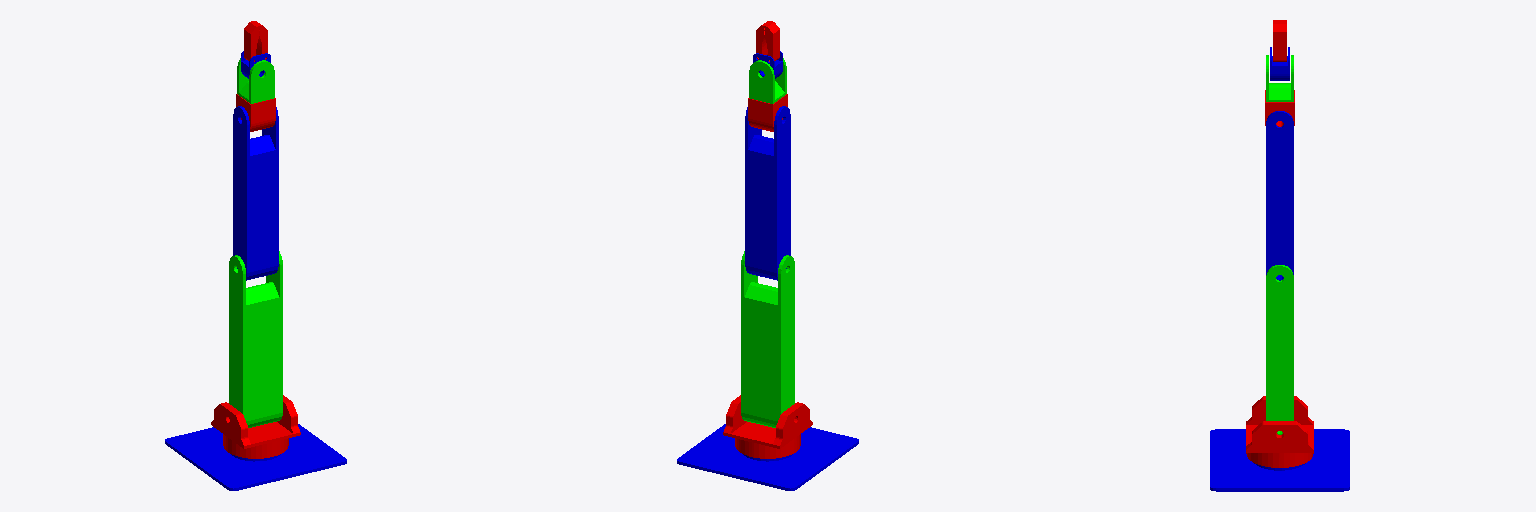
URDF robot description (arm_config_547):
<?xml version="1.0" encoding="utf-8"?>
<!-- This URDF was automatically created by SolidWorks to URDF Exporter! Originally created by [author] ([email redacted])
     Commit Version: 1.6.0-1-g15f4949  Build Version: 1.6.7594.29634
     For more information, please see http://wiki.ros.org/sw_urdf_exporter -->
<robot
  name="arm_config_547">
  <link
    name="link0">
    <inertial>
      <origin
        xyz="-8.53681301195987E-18 8.70768959319371E-18 0.0134925923770574"
        rpy="0 0 0" />
      <mass
        value="0.688644220951133" />
      <inertia
        ixx="0.00227509587313853"
        ixy="-1.85288457211878E-19"
        ixz="-3.56668054131112E-20"
        iyy="0.00227509587313853"
        iyz="2.02831096693689E-19"
        izz="0.0042834204048908" />
    </inertial>
    <visual>
      <origin
        xyz="0 0 0"
        rpy="0 0 0" />
      <geometry>
        <mesh
          filename="package://arm_config_547/meshes/link0.STL" />
      </geometry>
      <material
        name="">
        <color
          rgba="0 0 1 1" />
      </material>
    </visual>
    <collision>
      <origin
        xyz="0 0 0"
        rpy="0 0 0" />
      <geometry>
        <mesh
          filename="package://arm_config_547/meshes/link0.STL" />
      </geometry>
    </collision>
  </link>
  <link
    name="link1">
    <inertial>
      <origin
        xyz="-2.08801438517834E-18 0.0379721070933267 -1.10825098188093E-17"
        rpy="0 0 0" />
      <mass
        value="0.325738848244519" />
      <inertia
        ixx="0.000522993145721435"
        ixy="3.75752739289361E-20"
        ixz="-2.99852972050473E-20"
        iyy="0.00101068383316777"
        iyz="-3.68182345853235E-20"
        izz="0.000788818526389585" />
    </inertial>
    <visual>
      <origin
        xyz="0 0 0"
        rpy="0 0 0" />
      <geometry>
        <mesh
          filename="package://arm_config_547/meshes/link1.STL" />
      </geometry>
      <material
        name="">
        <color
          rgba="1 0 0 1" />
      </material>
    </visual>
    <collision>
      <origin
        xyz="0 0 0"
        rpy="0 0 0" />
      <geometry>
        <mesh
          filename="package://arm_config_547/meshes/link1.STL" />
      </geometry>
    </collision>
  </link>
  <joint
    name="Joint1"
    type="continuous">
    <origin
      xyz="0 0 0.016"
      rpy="1.5707963267949 0 0" />
    <parent
      link="link0" />
    <child
      link="link1" />
    <axis
      xyz="0 1 0" />
  </joint>
  <link
    name="link2">
    <inertial>
      <origin
        xyz="0.122191081384947 -3.19989222571702E-16 4.39316896996659E-16"
        rpy="0 0 0" />
      <mass
        value="1.16679960559088" />
      <inertia
        ixx="0.000984217152938848"
        ixy="1.42966455382666E-18"
        ixz="2.62609878143289E-18"
        iyy="0.00811847090565724"
        iyz="1.02144421342842E-19"
        izz="0.00862847533732547" />
    </inertial>
    <visual>
      <origin
        xyz="0 0 0"
        rpy="0 0 0" />
      <geometry>
        <mesh
          filename="package://arm_config_547/meshes/link2.STL" />
      </geometry>
      <material
        name="">
        <color
          rgba="0 1 0 1" />
      </material>
    </visual>
    <collision>
      <origin
        xyz="0 0 0"
        rpy="0 0 0" />
      <geometry>
        <mesh
          filename="package://arm_config_547/meshes/link2.STL" />
      </geometry>
    </collision>
  </link>
  <joint
    name="Joint2"
    type="revolute">
    <origin
      xyz="0 0.0660000000000002 0"
      rpy="0 0 1.5707963267949" />
    <parent
      link="link1" />
    <child
      link="link2" />
    <axis
      xyz="0 1 0" />
    <limit
      lower="-1.5708"
      upper="1.5708"
      effort="10"
      velocity="10" />
  </joint>
  <link
    name="link3">
    <inertial>
      <origin
        xyz="0.122769030179639 -8.73635937041109E-16 3.93075423358247E-17"
        rpy="0 0 0" />
      <mass
        value="0.923042306179794" />
      <inertia
        ixx="0.000556085946864622"
        ixy="6.94910439843216E-19"
        ixz="-4.63083400637701E-18"
        iyy="0.00648677653625795"
        iyz="-7.346646890062E-20"
        izz="0.00666759911490151" />
    </inertial>
    <visual>
      <origin
        xyz="0 0 0"
        rpy="0 0 0" />
      <geometry>
        <mesh
          filename="package://arm_config_547/meshes/link3.STL" />
      </geometry>
      <material
        name="">
        <color
          rgba="0 0 1 1" />
      </material>
    </visual>
    <collision>
      <origin
        xyz="0 0 0"
        rpy="0 0 0" />
      <geometry>
        <mesh
          filename="package://arm_config_547/meshes/link3.STL" />
      </geometry>
    </collision>
  </link>
  <joint
    name="Joint3"
    type="revolute">
    <origin
      xyz="0.3 0 0"
      rpy="3.14159265358979 0 0" />
    <parent
      link="link2" />
    <child
      link="link3" />
    <axis
      xyz="0 1 0" />
    <limit
      lower="-2.3562"
      upper="2.3562"
      effort="10"
      velocity="10" />
  </joint>
  <link
    name="link4">
    <inertial>
      <origin
        xyz="0.00972269745378007 1.16326789090019E-16 -1.15321076998277E-16"
        rpy="0 0 0" />
      <mass
        value="0.160672589924149" />
      <inertia
        ixx="7.42187639401473E-05"
        ixy="-1.64742695562951E-20"
        ixz="9.53193092185211E-21"
        iyy="9.03295624525189E-05"
        iyz="4.9230263034182E-21"
        izz="9.16902291249821E-05" />
    </inertial>
    <visual>
      <origin
        xyz="0 0 0"
        rpy="0 0 0" />
      <geometry>
        <mesh
          filename="package://arm_config_547/meshes/link4.STL" />
      </geometry>
      <material
        name="">
        <color
          rgba="1 0 0 1" />
      </material>
    </visual>
    <collision>
      <origin
        xyz="0 0 0"
        rpy="0 0 0" />
      <geometry>
        <mesh
          filename="package://arm_config_547/meshes/link4.STL" />
      </geometry>
    </collision>
  </link>
  <joint
    name="Joint4"
    type="revolute">
    <origin
      xyz="0.3 0 0"
      rpy="-3.14159265358979 0 0" />
    <parent
      link="link3" />
    <child
      link="link4" />
    <axis
      xyz="0 1 0" />
    <limit
      lower="-2.3562"
      upper="2.3562"
      effort="10"
      velocity="10" />
  </joint>
  <link
    name="link5">
    <inertial>
      <origin
        xyz="-0.0252810003387344 -1.45254067958585E-17 -1.1046793514653E-16"
        rpy="0 0 0" />
      <mass
        value="0.0739367476391903" />
      <inertia
        ixx="3.77533059429257E-05"
        ixy="9.55694218674838E-21"
        ixz="6.9503752476749E-21"
        iyy="4.82105539410537E-05"
        iyz="-2.51355434566296E-21"
        izz="5.971485171142E-05" />
    </inertial>
    <visual>
      <origin
        xyz="0 0 0"
        rpy="0 0 0" />
      <geometry>
        <mesh
          filename="package://arm_config_547/meshes/link5.STL" />
      </geometry>
      <material
        name="">
        <color
          rgba="0 1 0 1" />
      </material>
    </visual>
    <collision>
      <origin
        xyz="0 0 0"
        rpy="0 0 0" />
      <geometry>
        <mesh
          filename="package://arm_config_547/meshes/link5.STL" />
      </geometry>
    </collision>
  </link>
  <joint
    name="Joint5"
    type="continuous">
    <origin
      xyz="0.04 0 0"
      rpy="-1.5707963267949 0 -3.14159265358979" />
    <parent
      link="link4" />
    <child
      link="link5" />
    <axis
      xyz="1 0 0" />
  </joint>
  <link
    name="link6">
    <inertial>
      <origin
        xyz="0.00558882614500944 -1.33723273427566E-16 1.66757272521741E-16"
        rpy="0 0 0" />
      <mass
        value="0.0500757226681314" />
      <inertia
        ixx="1.40278845635623E-05"
        ixy="-3.02675419086259E-21"
        ixz="-4.89086528009018E-22"
        iyy="1.64279778012586E-05"
        iyz="6.31791756919325E-22"
        izz="1.41096720866551E-05" />
    </inertial>
    <visual>
      <origin
        xyz="0 0 0"
        rpy="0 0 0" />
      <geometry>
        <mesh
          filename="package://arm_config_547/meshes/link6.STL" />
      </geometry>
      <material
        name="">
        <color
          rgba="0 0 1 1" />
      </material>
    </visual>
    <collision>
      <origin
        xyz="0 0 0"
        rpy="0 0 0" />
      <geometry>
        <mesh
          filename="package://arm_config_547/meshes/link6.STL" />
      </geometry>
    </collision>
  </link>
  <joint
    name="Joint6"
    type="revolute">
    <origin
      xyz="-0.05 0 0"
      rpy="3.14159265358979 0 3.14159265358979" />
    <parent
      link="link5" />
    <child
      link="link6" />
    <axis
      xyz="0 1 0" />
    <limit
      lower="-2.0944"
      upper="2.0944"
      effort="10"
      velocity="10" />
  </joint>
  <link
    name="finger1">
    <inertial>
      <origin
        xyz="0.0335637568275728 -7.87492599850236E-17 0.00189658044541406"
        rpy="0 0 0" />
      <mass
        value="0.0237930012486169" />
      <inertia
        ixx="1.7597199078044E-06"
        ixy="-3.46187505016208E-21"
        ixz="-8.38148350391748E-07"
        iyy="9.42746437092609E-06"
        iyz="3.71651376814591E-21"
        izz="1.0146182093186E-05" />
    </inertial>
    <visual>
      <origin
        xyz="0 0 0"
        rpy="0 0 0" />
      <geometry>
        <mesh
          filename="package://arm_config_547/meshes/finger1.STL" />
      </geometry>
      <material
        name="">
        <color
          rgba="1 0 0 1" />
      </material>
    </visual>
    <collision>
      <origin
        xyz="0 0 0"
        rpy="0 0 0" />
      <geometry>
        <mesh
          filename="package://arm_config_547/meshes/finger1.STL" />
      </geometry>
    </collision>
  </link>
  <joint
    name="GripperJoint"
    type="fixed">
    <origin
      xyz="0.03 0 -0.0125"
      rpy="0 0 0" />
    <parent
      link="link6" />
    <child
      link="finger1" />
    <axis
      xyz="0 1 0" />
    <limit
      lower="0"
      upper="1.5708"
      effort="10"
      velocity="10" />
  </joint>
  <link
    name="finger2">
    <inertial>
      <origin
        xyz="0.033564 7.6647E-17 0.0018966"
        rpy="0 0 0" />
      <mass
        value="0.023793" />
      <inertia
        ixx="1.7597E-06"
        ixy="4.6779E-22"
        ixz="-8.3815E-07"
        iyy="9.4275E-06"
        iyz="2.7032E-22"
        izz="1.0146E-05" />
    </inertial>
    <visual>
      <origin
        xyz="0 0 0"
        rpy="0 0 0" />
      <geometry>
        <mesh
          filename="package://arm_config_547/meshes/finger2.STL" />
      </geometry>
      <material
        name="">
        <color
          rgba="1 0 0 1" />
      </material>
    </visual>
    <collision>
      <origin
        xyz="0 0 0"
        rpy="0 0 0" />
      <geometry>
        <mesh
          filename="package://arm_config_547/meshes/finger2.STL" />
      </geometry>
    </collision>
  </link>
  <joint
    name="MirrorGripperJoint"
    type="fixed">
    <origin
      xyz="0.03 0 0.0125"
      rpy="3.1416 0 0" />
    <parent
      link="link6" />
    <child
      link="finger2" />
    <axis
      xyz="0 1 0" />
    <limit
      lower="-1.5708"
      upper="0"
      effort="10"
      velocity="10" />
    <mimic
      joint="GripperJoint"
      multiplier="1"
      offset="0" />
  </joint>
</robot>

--- Facts derived from the render (not from the file) ---
Views: 3 orthographic renders of the robot side by side, from view 1: azimuth 30°, elevation 25°; view 2: azimuth 150°, elevation 25°; view 3: azimuth 270°, elevation 25°.
Model arm_config_547 with 9 links and 8 joints (4 revolute, 2 continuous, 2 fixed), rooted at link0, posed every joint at zero.
Visible links, largest first — view 1: link2, link3, link0, link1, link5, link4; view 2: link2, link3, link0, link1, link5, link4; view 3: link0, link3, link2, link1, link5, finger1.
Boxes of the visible links, x1,y1,x2,y2 form: link2: [229, 251, 282, 427]; link3: [233, 106, 278, 280]; link0: [165, 424, 346, 490]; link1: [211, 395, 300, 458]; link5: [237, 58, 274, 103]; link4: [236, 94, 275, 131]; link2: [741, 251, 794, 427]; link3: [745, 106, 790, 280]; link0: [677, 424, 858, 490]; link1: [723, 395, 812, 458]; link5: [749, 58, 786, 103]; link4: [748, 94, 787, 131]; link0: [1210, 429, 1349, 491]; link3: [1266, 111, 1293, 280]; link2: [1266, 265, 1293, 434]; link1: [1246, 396, 1313, 467]; link5: [1266, 55, 1293, 101]; finger1: [1273, 22, 1286, 61].
Bounding box of the posed robot: 0.25 × 0.25 × 0.869 m (x, y, z).
Meshes: 9 distinct files referenced, 9 mesh visuals loaded (9 binary STL).